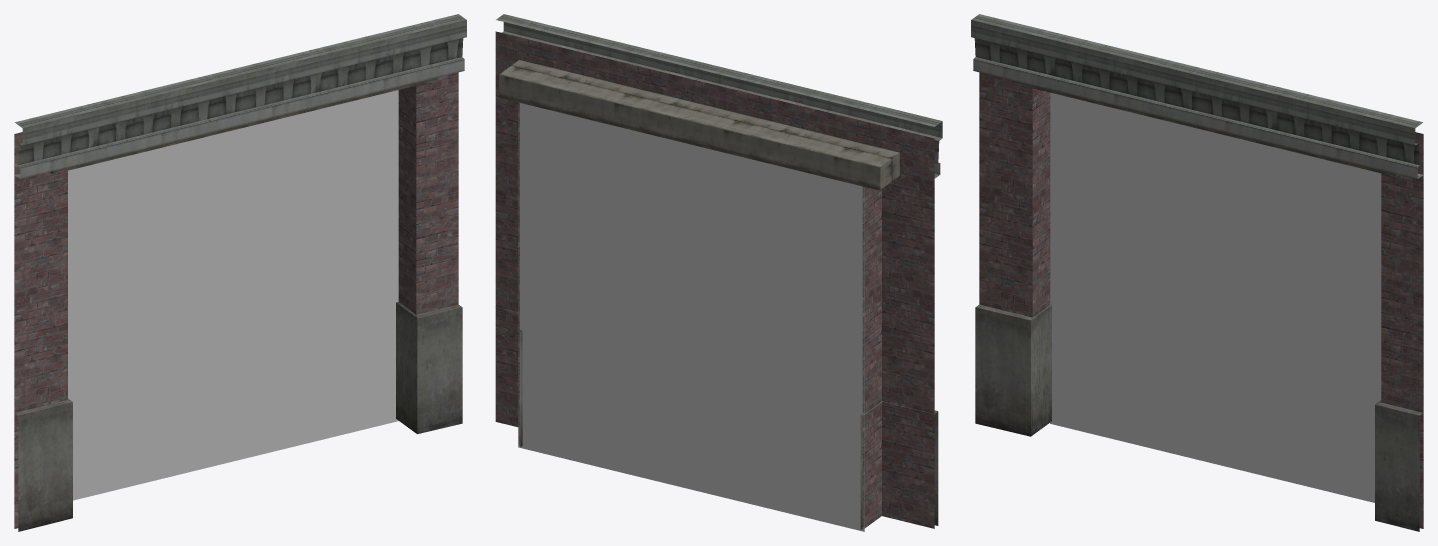
File: Wall_C_Brick_Shops_China_4x.FBX
3 renders of one model, left to right at view 1: azimuth 30°, elevation 25°; view 2: azimuth 150°, elevation 25°; view 3: azimuth 330°, elevation 25°, orthographic.
Parts seen in each view (by area): view 1: Wall_C_Brick_Shops_China_4x; view 2: Wall_C_Brick_Shops_China_4x; view 3: Wall_C_Brick_Shops_China_4x.
Boxes of the visible parts, bbox=[...] form: Wall_C_Brick_Shops_China_4x: bbox=[14, 14, 466, 531]; Wall_C_Brick_Shops_China_4x: bbox=[495, 14, 942, 531]; Wall_C_Brick_Shops_China_4x: bbox=[971, 14, 1423, 531].
Size of the model in its own units: 400 by 353 by 44.82.
